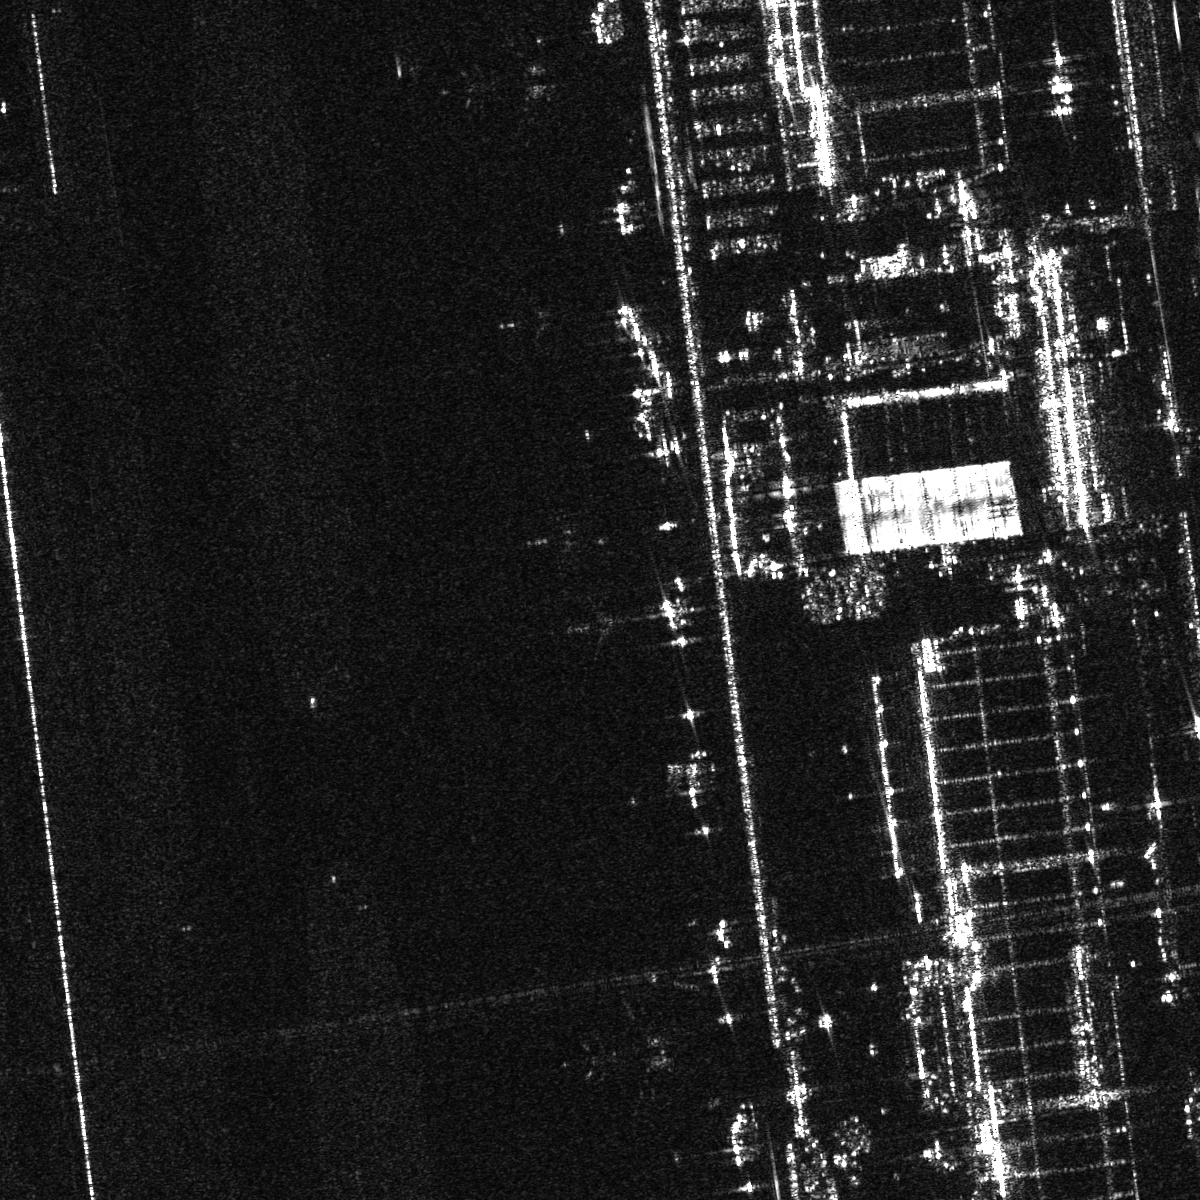A220: (551, 588, 620, 665)
Boeing787: (448, 31, 570, 138), (495, 289, 560, 349)
